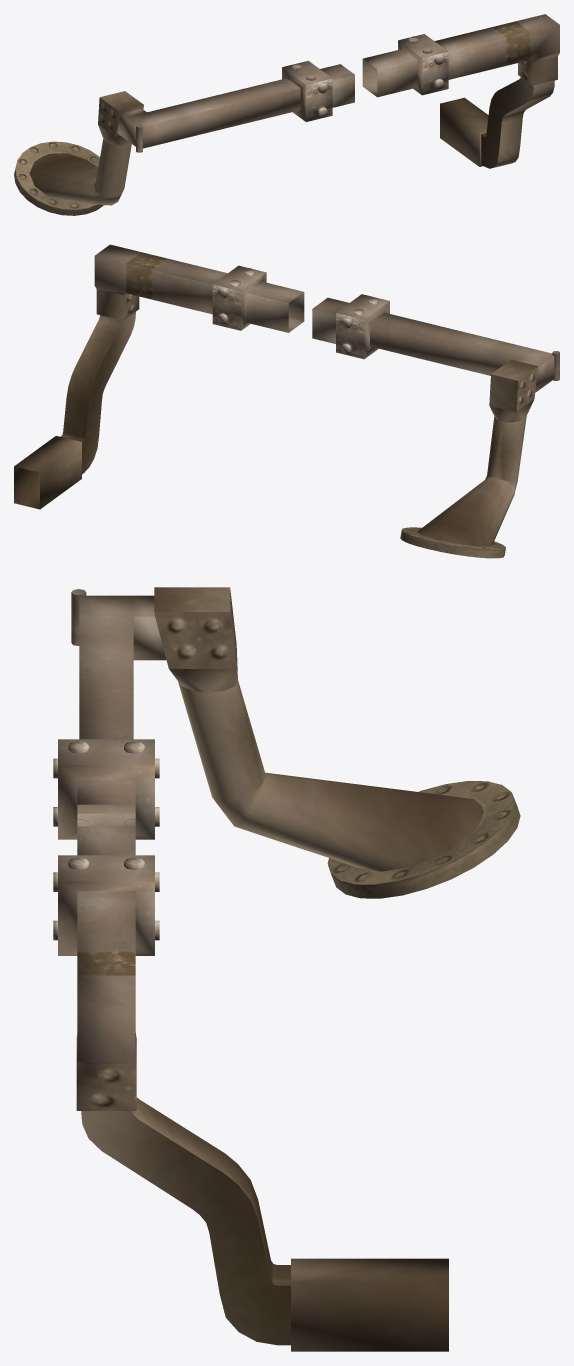
File: Body_BogieLeft.dae
3 views of the same model, one above another, from view 1: azimuth 30°, elevation 25°; view 2: azimuth 150°, elevation 25°; view 3: azimuth 270°, elevation 25° (orthographic). The views are drawn at different scales.
Parts seen in each view (by area): view 1: suspension_right_rear_rocker1, suspension_right_rear_rocker2; view 2: suspension_right_rear_rocker1, suspension_right_rear_rocker2; view 3: suspension_right_rear_rocker1, suspension_right_rear_rocker2.
Part boxes in pixels (x1,y1,x2,y2): suspension_right_rear_rocker1: (282, 14, 559, 168); suspension_right_rear_rocker2: (14, 78, 300, 215); suspension_right_rear_rocker1: (14, 244, 389, 509); suspension_right_rear_rocker2: (370, 312, 559, 558); suspension_right_rear_rocker1: (53, 739, 448, 1351); suspension_right_rear_rocker2: (71, 587, 520, 898).
Size of the model in its own units: 0.5735 by 0.2563 by 0.2216.
1 material, 1 textured.
